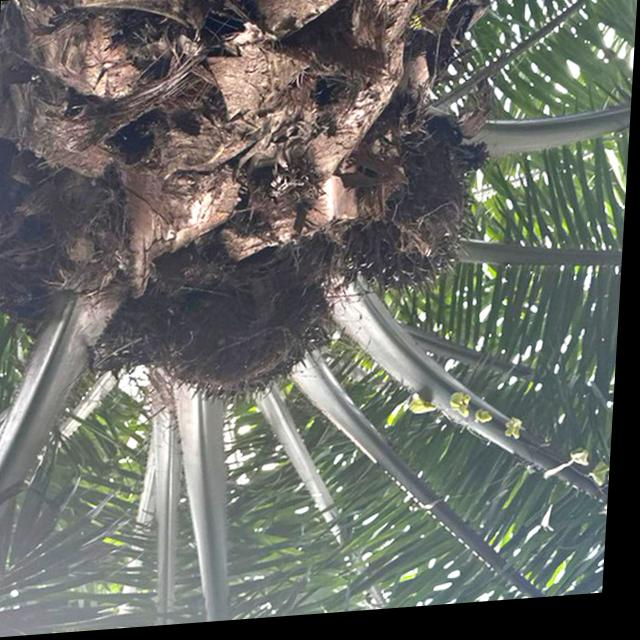unripe: (346, 125, 492, 307), (153, 286, 339, 416)
